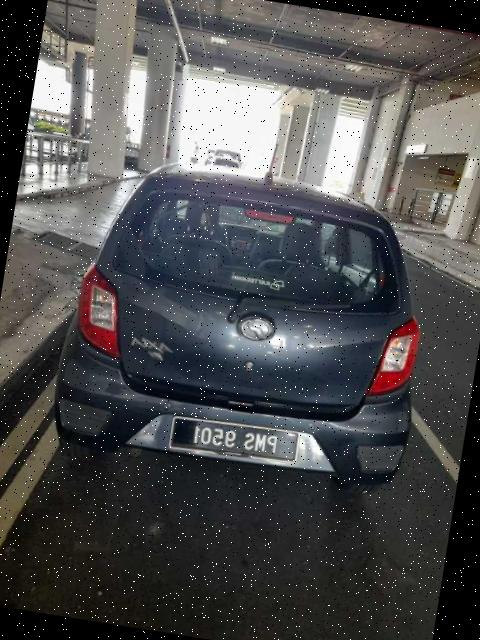License_Plate: (168, 412, 301, 467)
car: (46, 144, 449, 503)
